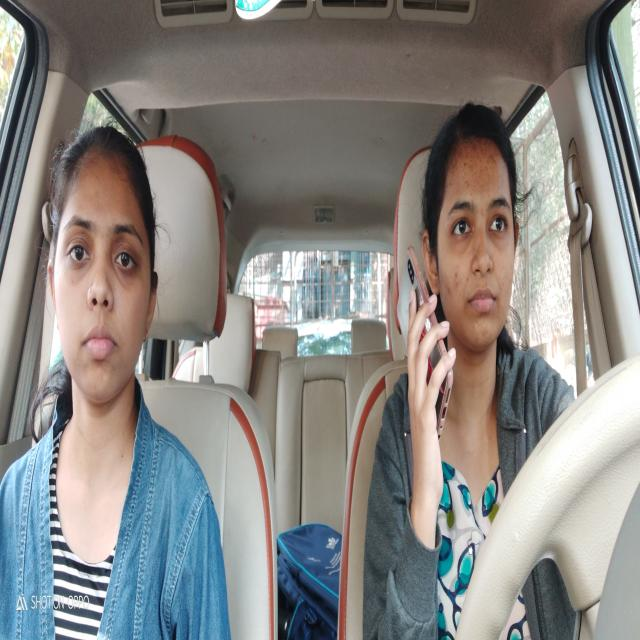mobile: (393, 240, 454, 451)
person: (41, 121, 170, 431), (426, 102, 526, 354)
